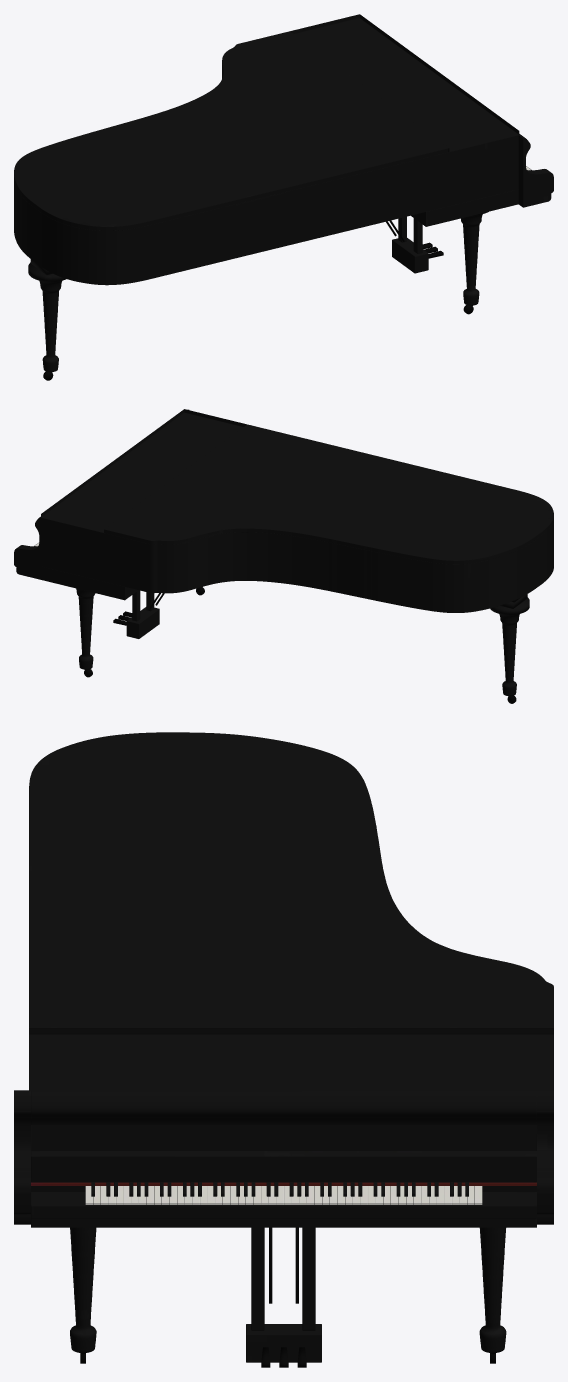
Rendered from piano.glb.
3 renders of one model, top to bottom at view 1: azimuth 30°, elevation 25°; view 2: azimuth 150°, elevation 25°; view 3: azimuth 270°, elevation 25°, orthographic. The views are drawn at different scales.
Visible parts, largest first — view 1: piano; view 2: piano; view 3: piano.
Boxes of the visible parts, <box> form: piano: <box>14,14,553,380</box>; piano: <box>14,409,553,703</box>; piano: <box>14,732,553,1367</box>.
Size of the model in its own units: 2.74 by 1.04 by 1.66.
1 material, 1 textured.
